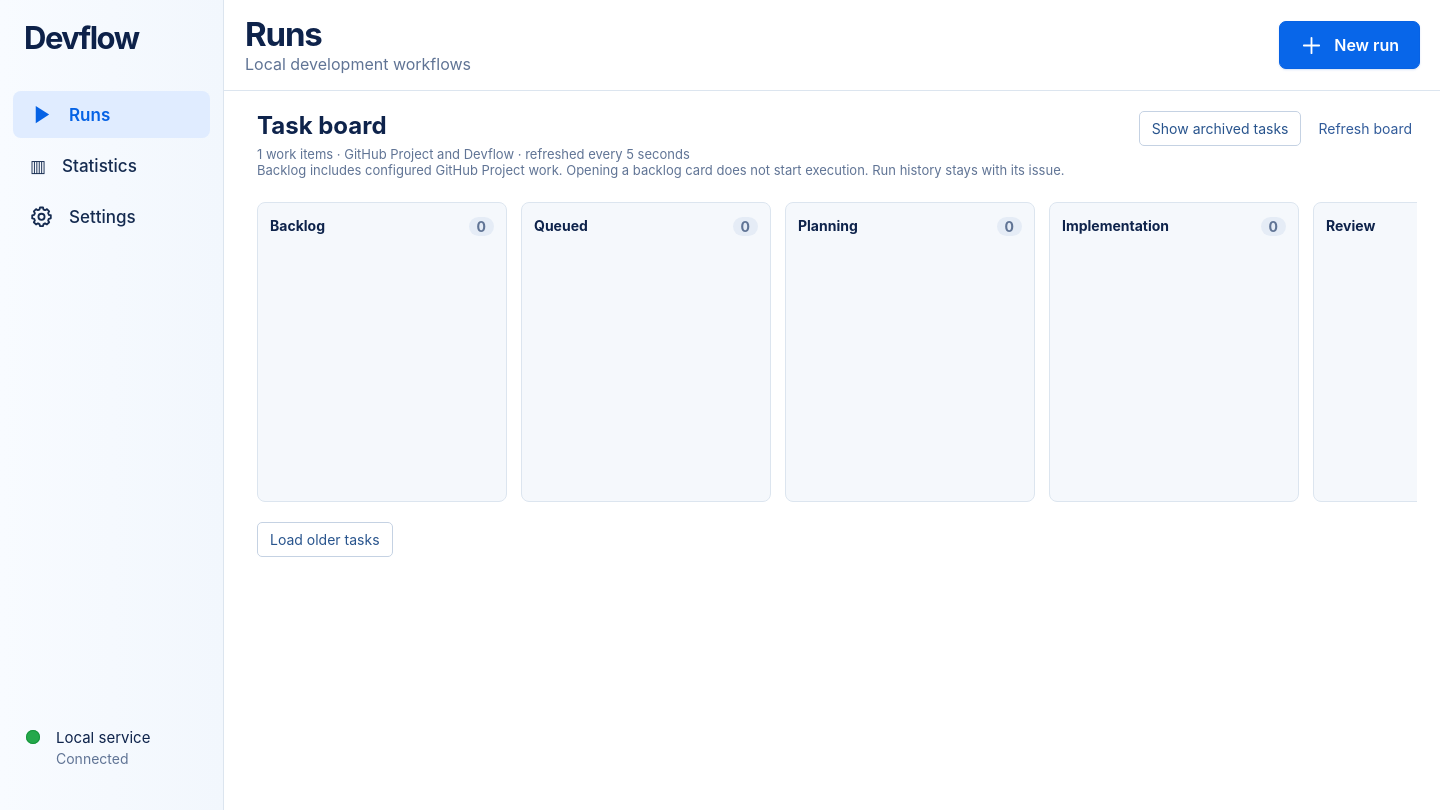
it: discards a late older page after archive toggle
This screenshot has width=1440, height=810.
Step 1. Click the button "Load older tasks" → (325, 540), box [257,522,392,557]
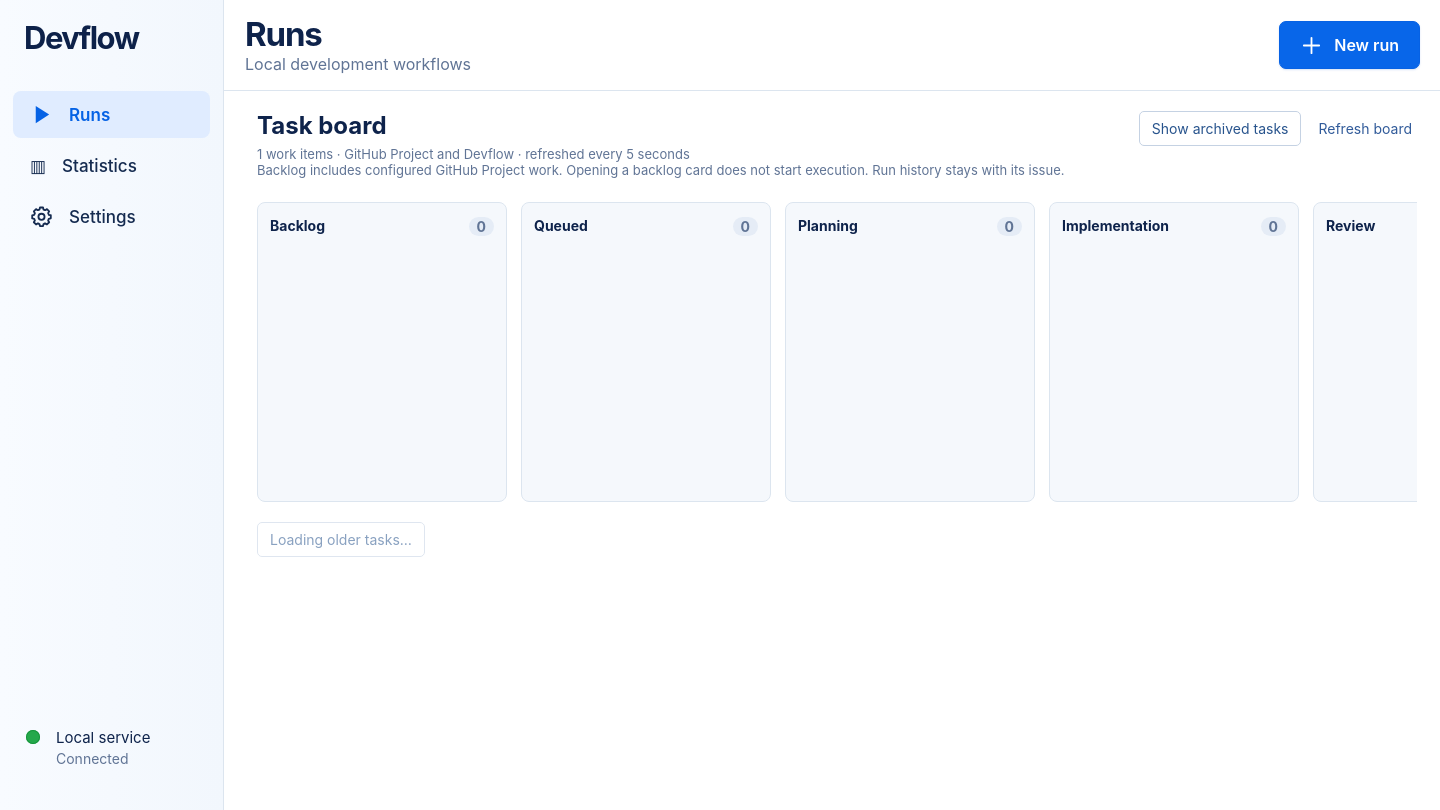
Step 2. Click the button "Show archived tasks" → (1220, 128), box [1139,111,1302,146]
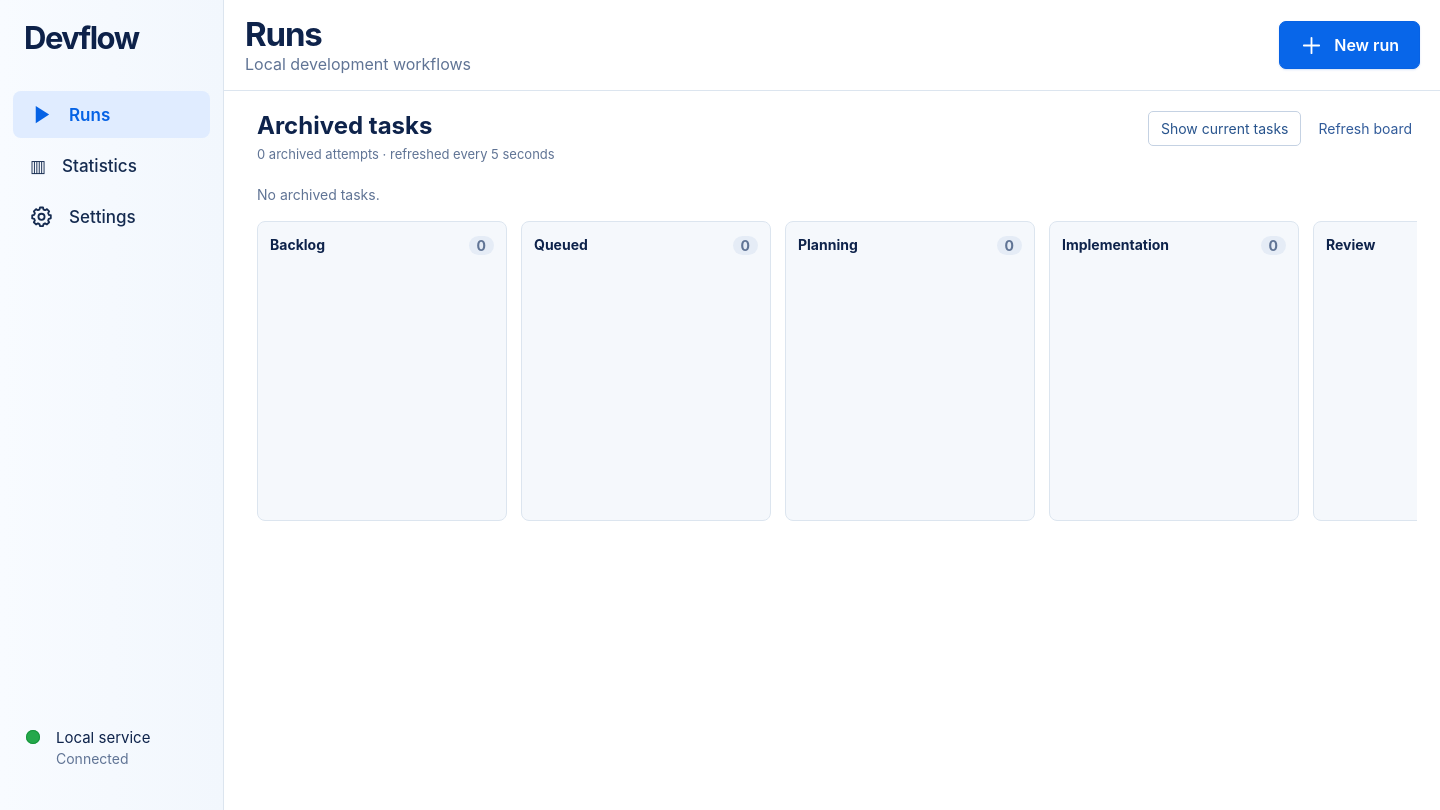
Expected: the heading "Archived tasks" is shown, [257,111,432,140]
